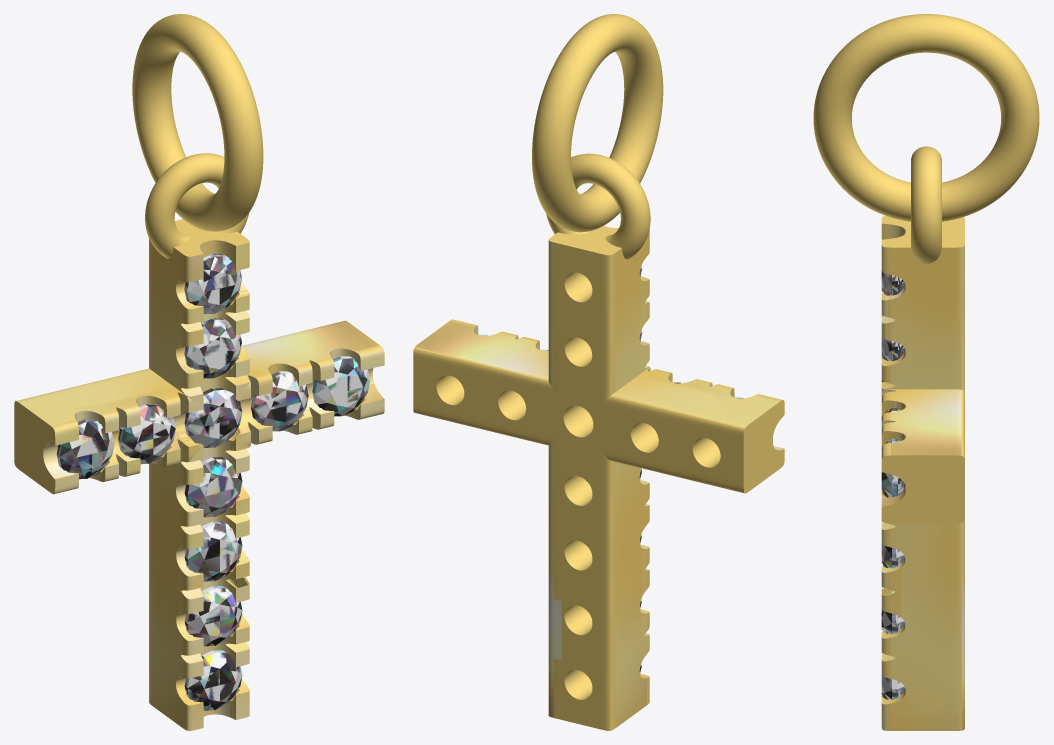
File: demo3.glb
3 views of the same model, side by side, from view 1: azimuth 30°, elevation 25°; view 2: azimuth 150°, elevation 25°; view 3: azimuth 270°, elevation 25° (orthographic).
Visible parts, largest first — view 1: hukou; view 2: hukou; view 3: hukou.
Boxes of the visible parts, left/top/right/bottom form: hukou: left=14, top=14, right=384, bottom=730; hukou: left=413, top=14, right=784, bottom=730; hukou: left=813, top=14, right=1039, bottom=730.
Bounding box in the file's own units: 9.1 × 18.08 × 5.3.
12 materials, 12 textured.
